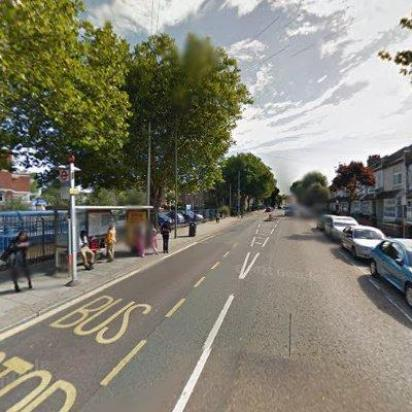moving-car: (284, 205, 296, 217), (264, 204, 274, 212)
stationary-car-offstreet: (164, 209, 184, 225), (155, 212, 173, 228)
stationary-car-onstreet: (368, 236, 412, 312), (340, 223, 388, 258), (328, 215, 358, 242), (318, 213, 330, 230)
